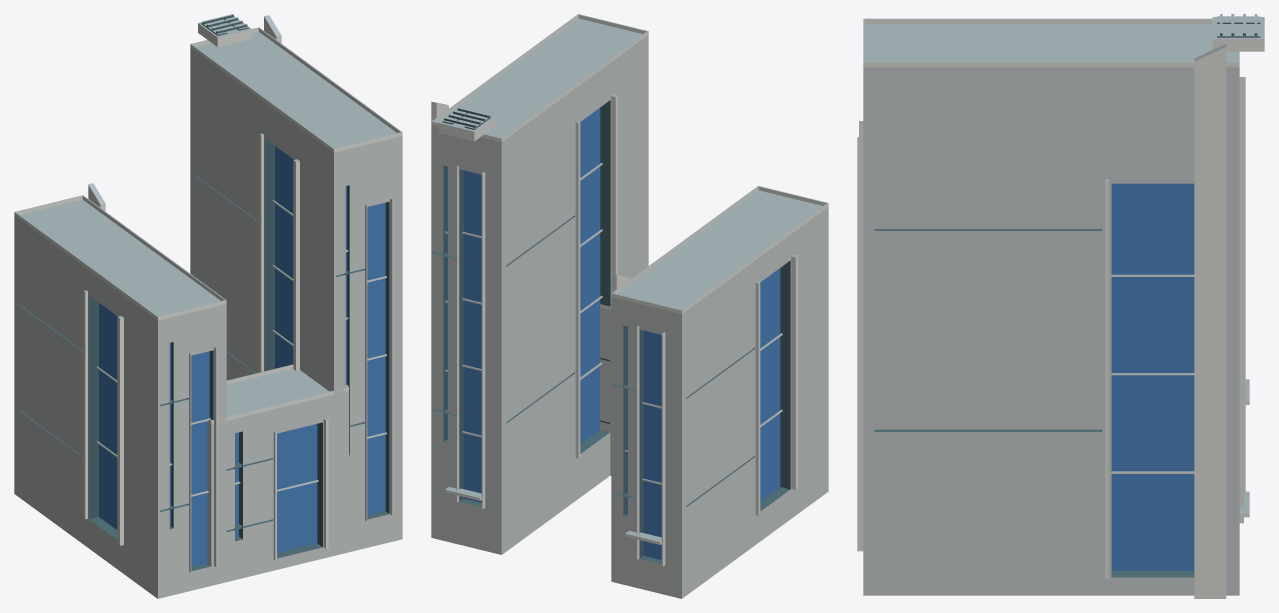
The model's file is 20_Hofensemble.obj.
3 views of the same model, side by side, from view 1: azimuth 30°, elevation 25°; view 2: azimuth 150°, elevation 25°; view 3: azimuth 270°, elevation 25° (orthographic). The views are drawn at different scales.
Bounding box in the file's own units: 0.6308 × 1 × 0.6688.
